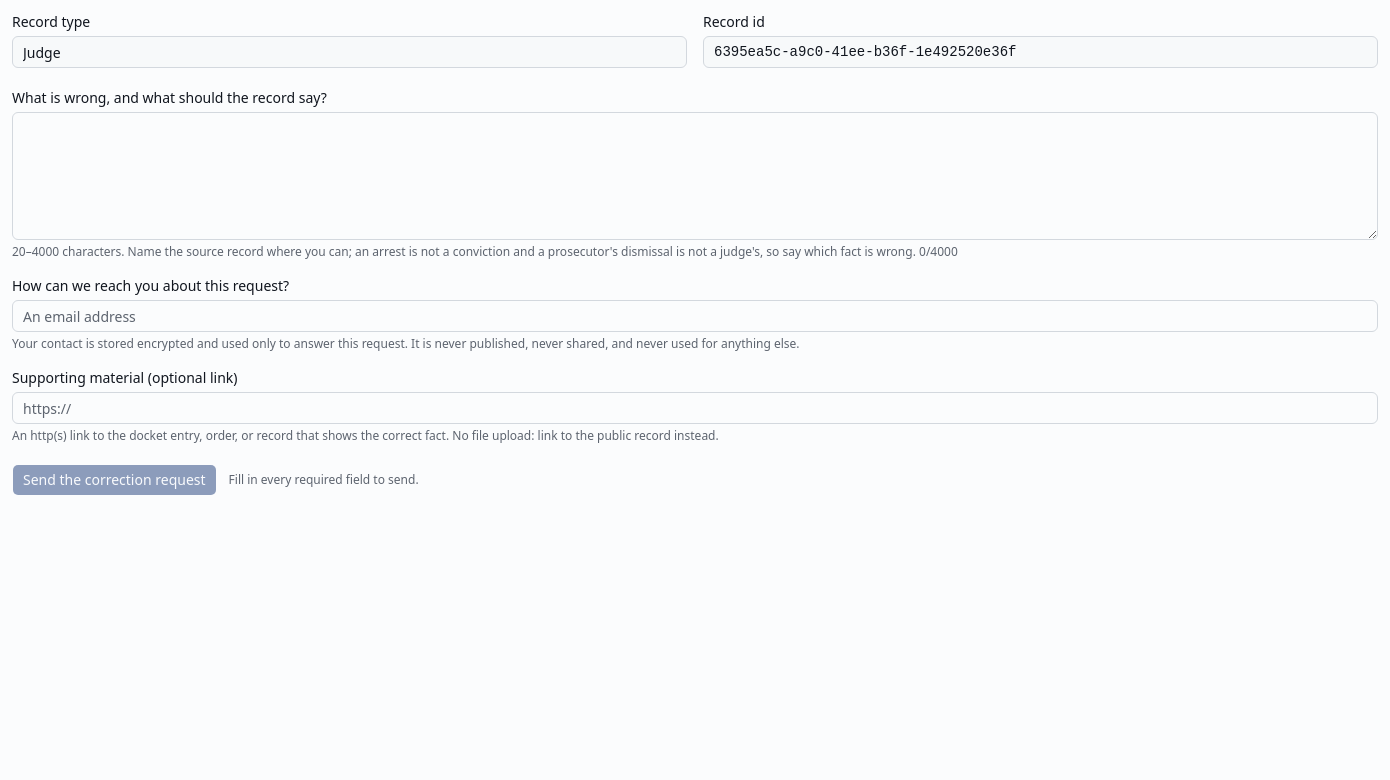
Test case: CorrectionForm › reports a 429 with the wait and a 503 as unavailable
Step 1. Type "The commission date shown is 2009-08-06 but the source record says 2009-08-08." into the text box with test id "reason" → (695, 176), box [12, 112, 1378, 240]
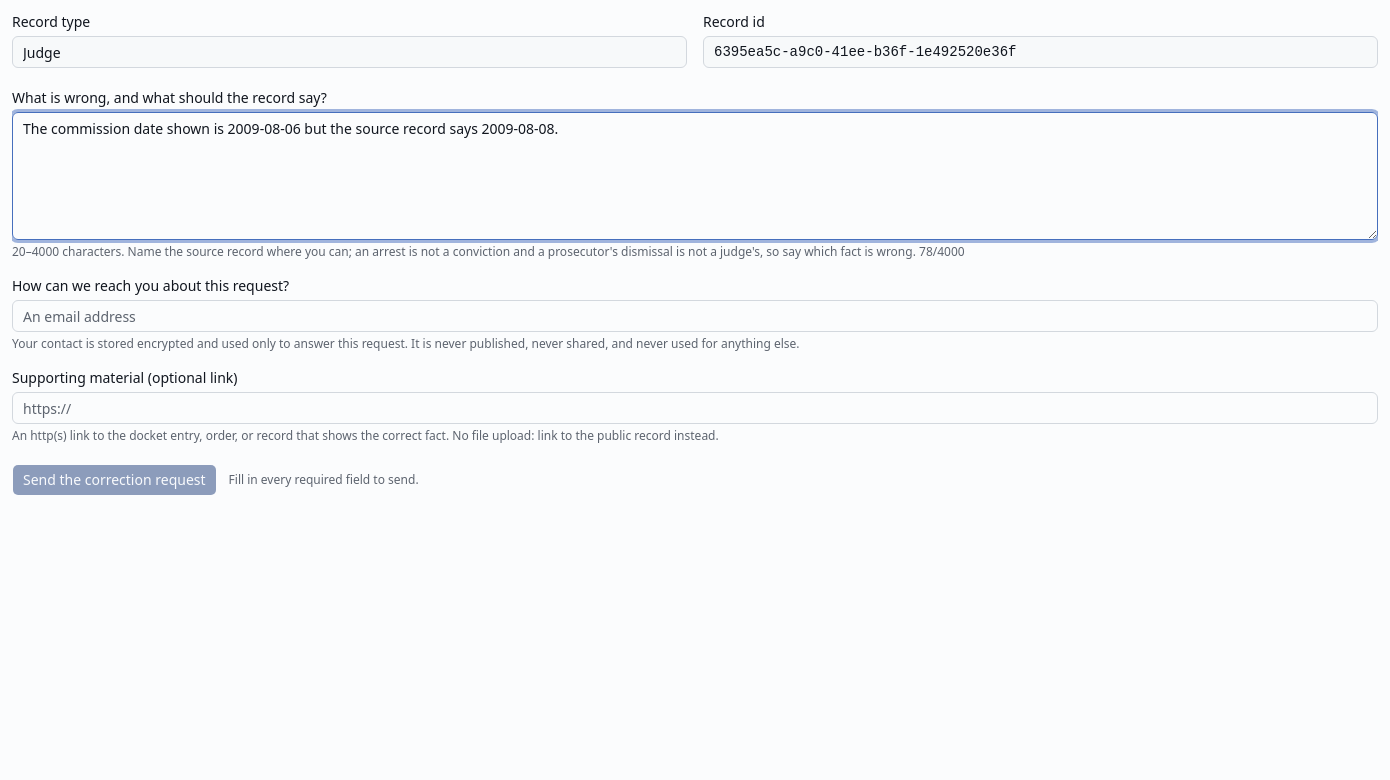
Step 2. Type "requester@example.invalid" into the field with test id "contact" → (695, 316), box [12, 300, 1378, 332]
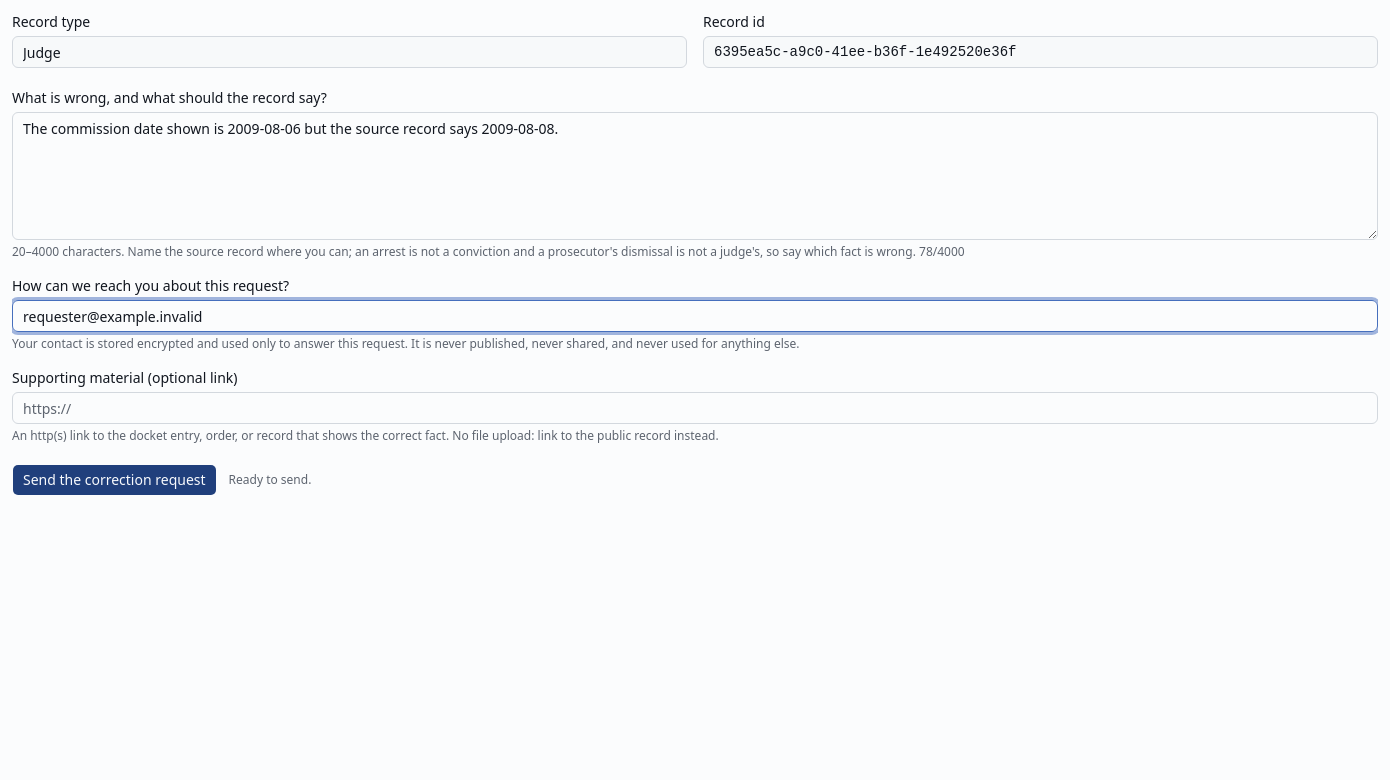
Step 3. Click the button with test id "submit-correction" → (114, 480), box [12, 464, 217, 496]
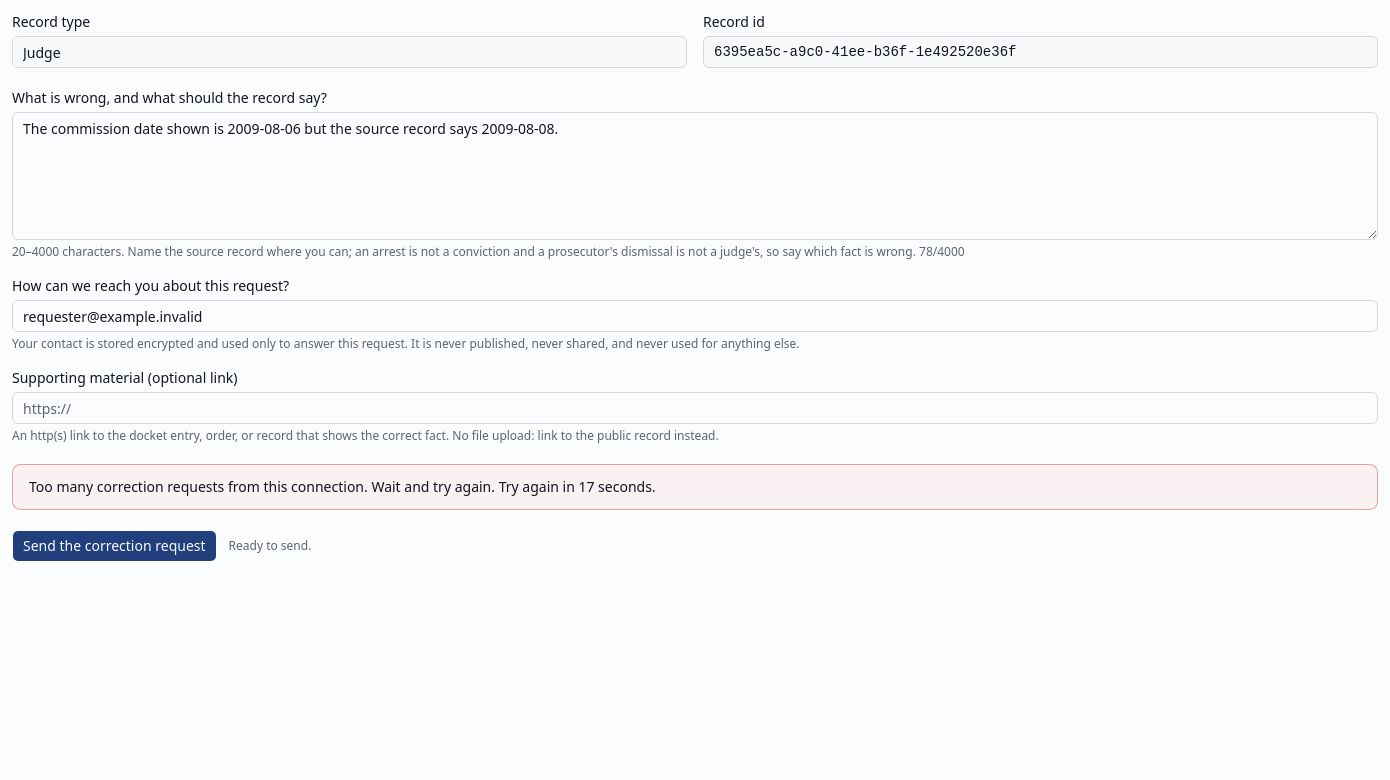
Now the message with test id "submit-error" shows "Too many correction requests", box [29, 477, 495, 496]
Now the message with test id "submit-error" shows "17 seconds", box [495, 477, 656, 496]
Step 4. Type " Again." into the text box with test id "reason" → (695, 176), box [12, 112, 1378, 240]
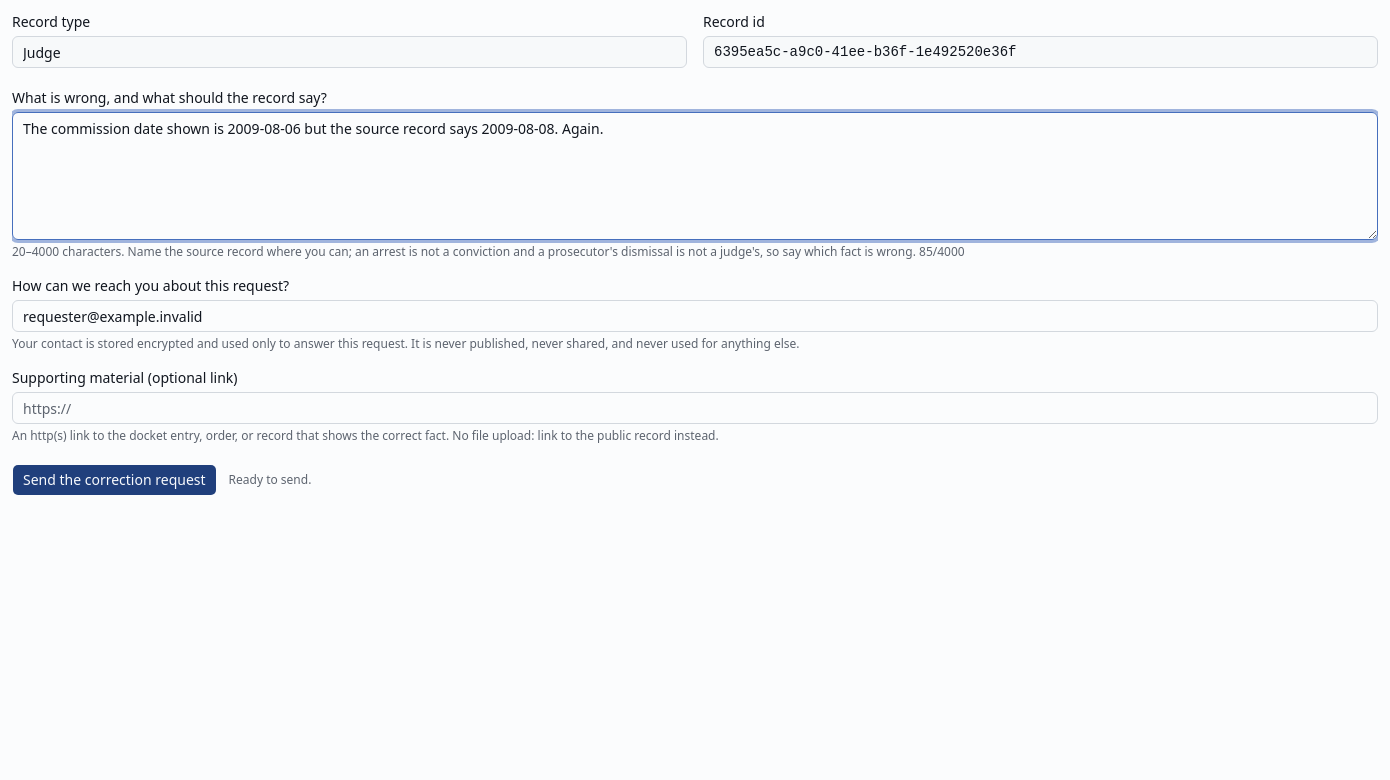
Step 5. Click the button with test id "submit-correction" → (114, 480), box [12, 464, 217, 496]
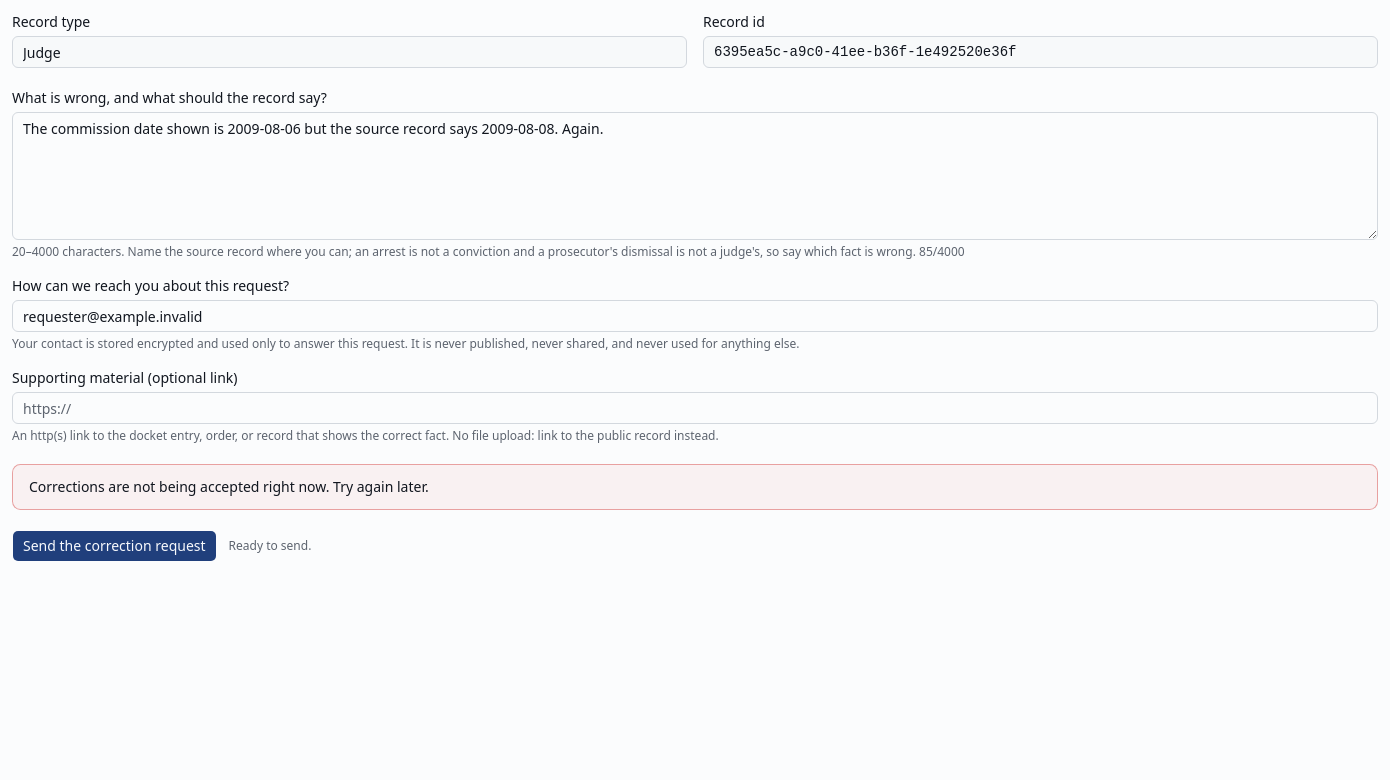
Now the message with test id "submit-error" shows "not being accepted right now", box [29, 477, 429, 496]
